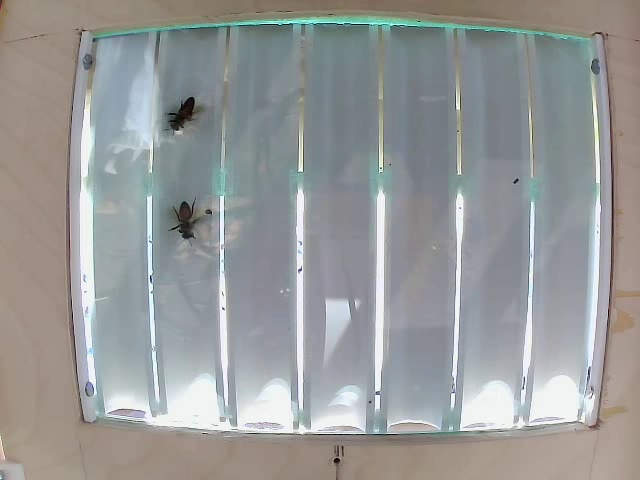bee: (160, 87, 211, 146), (164, 189, 212, 245)
